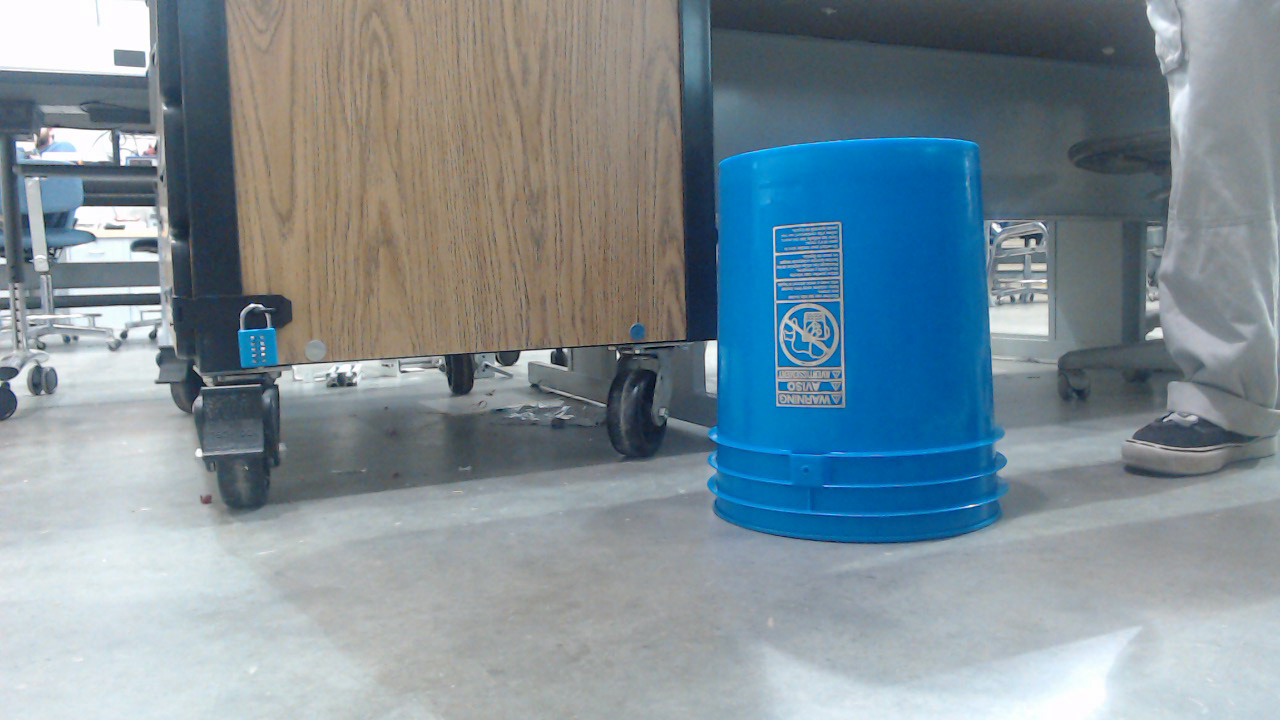blue_bucket: (709, 136, 1018, 554)
